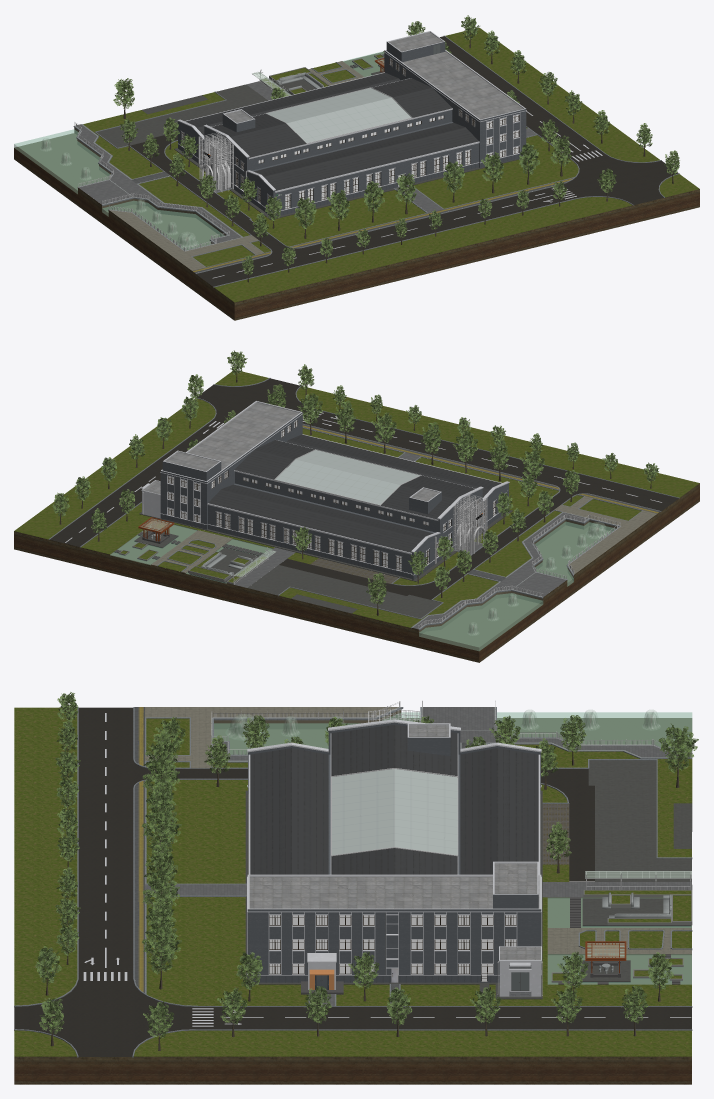
Rendered from uino-scene.glb.
3 renders of one model, top to bottom at view 1: azimuth 30°, elevation 25°; view 2: azimuth 150°, elevation 25°; view 3: azimuth 270°, elevation 25°, orthographic. The views are drawn at different scales.
Visible parts, largest first — view 1: UBP_mix; view 2: UBP_mix; view 3: UBP_mix.
Boxes of the visible parts, left/top/right/bottom form: UBP_mix: left=14, top=15, right=699, bottom=320; UBP_mix: left=14, top=350, right=699, bottom=662; UBP_mix: left=14, top=692, right=698, bottom=1084.
Size of the model in its own units: 96.74 by 14.99 by 80.24.
37 materials, 32 textured.
